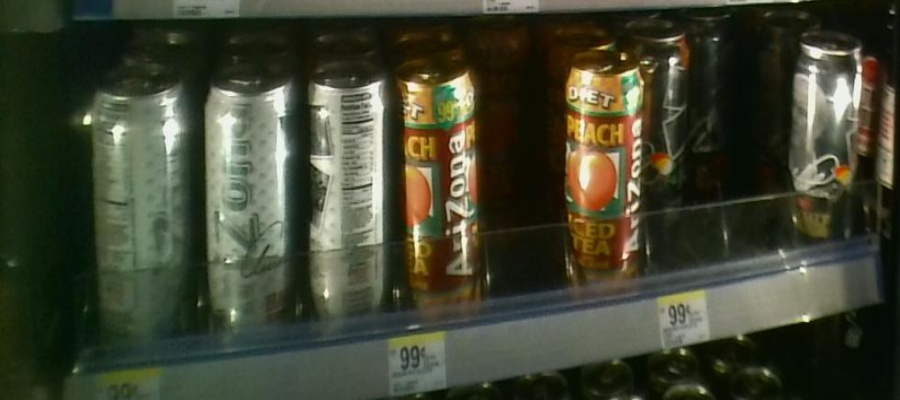bottle: (84, 58, 198, 362), (202, 53, 297, 364), (298, 45, 388, 354), (395, 44, 478, 351), (563, 43, 641, 321), (795, 32, 863, 263), (645, 24, 683, 205)
